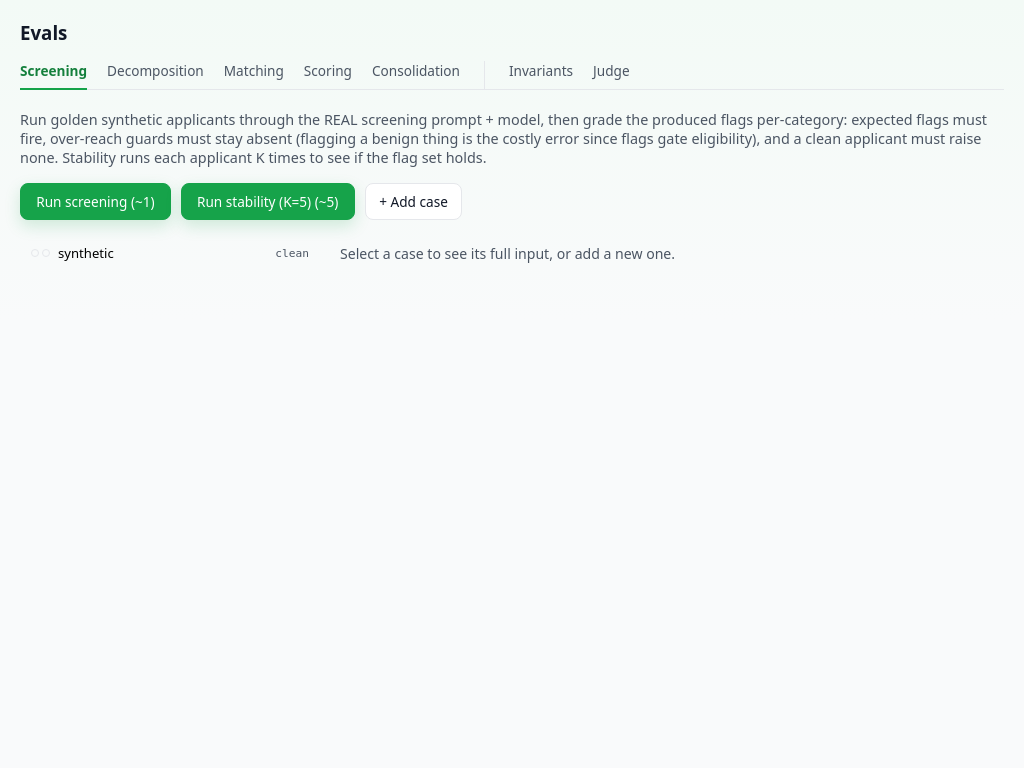
Test case: preserves local case, brief and baseline editing
The width and height of the screenshot is (1024, 768).
Click the button "synthetic clean" at (86,253), box [20, 236, 320, 270]
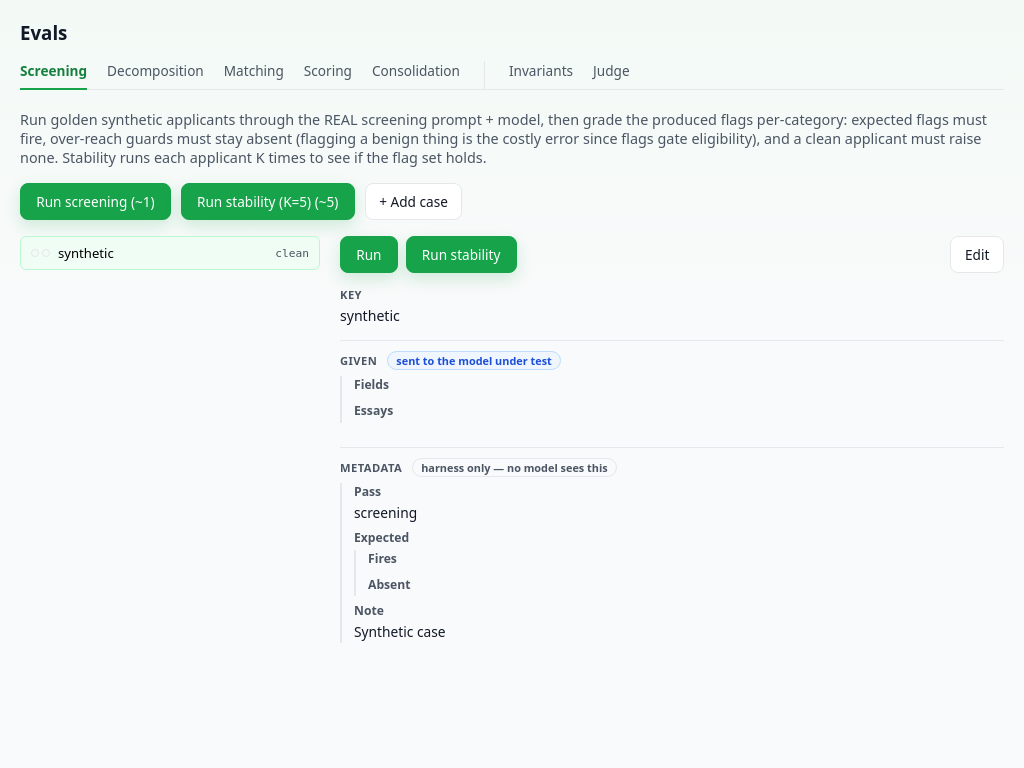
Expected: the button "+ Add case" is enabled, [365, 183, 462, 220]
Expected: the button "Edit" is enabled, [950, 236, 1004, 273]
Click the tab "Judge" at (611,76), box [593, 61, 630, 90]
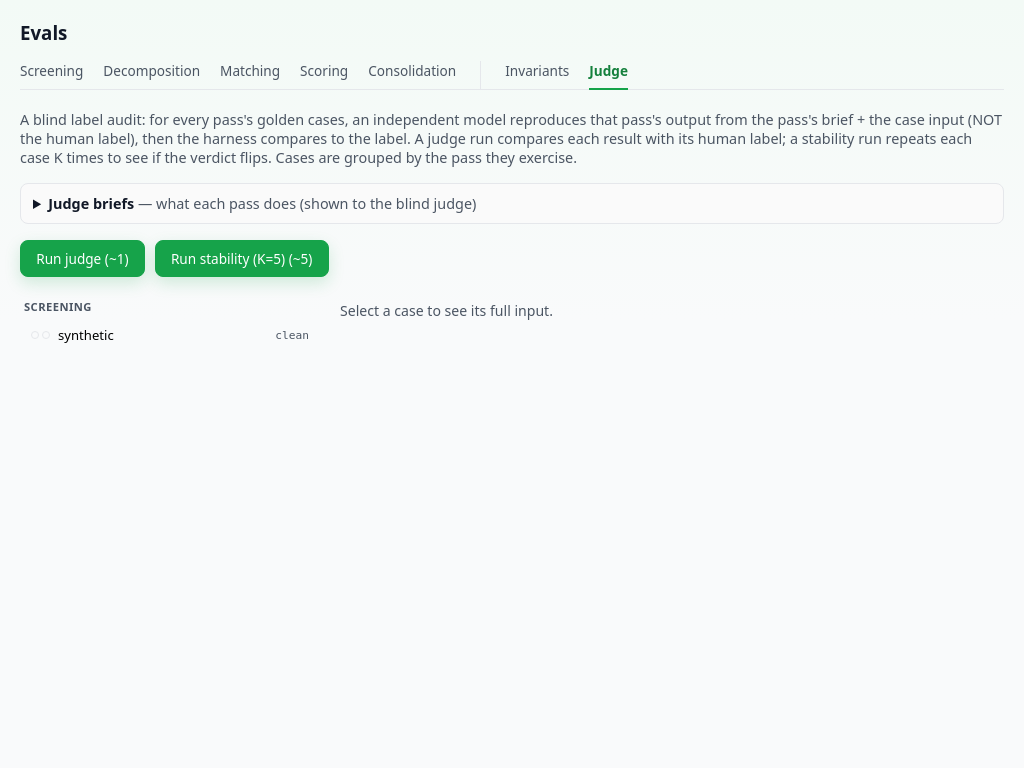
Click the tab "Invariants" at (537,76), box [505, 61, 569, 90]
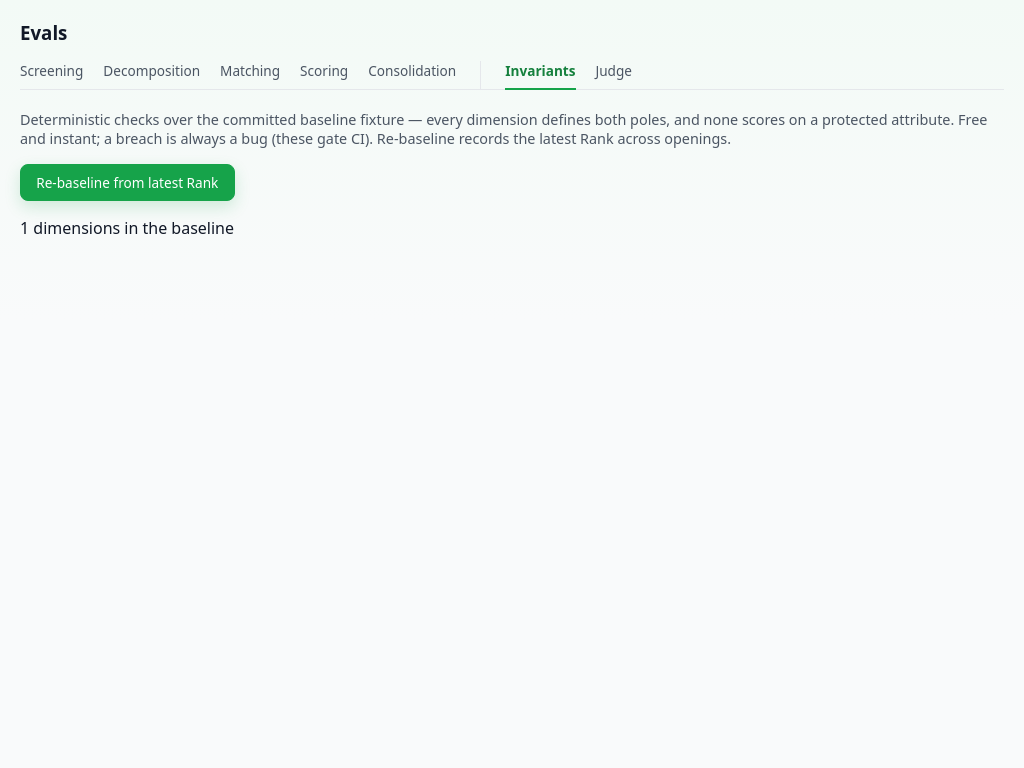
Expected: the text "1 dimensions in the baseline" is shown, [20, 217, 234, 239]
Expected: the button "Re-baseline from latest Rank" is enabled, [20, 164, 234, 201]
